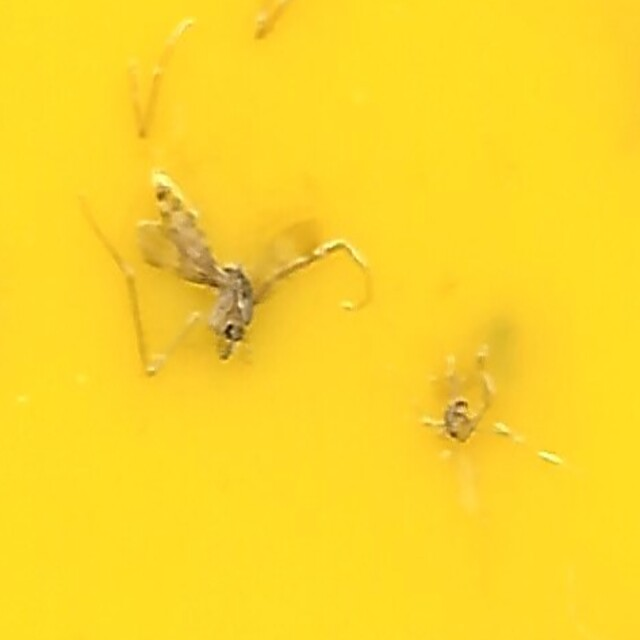Nematocera: (135, 181, 326, 369), (433, 336, 505, 459)
